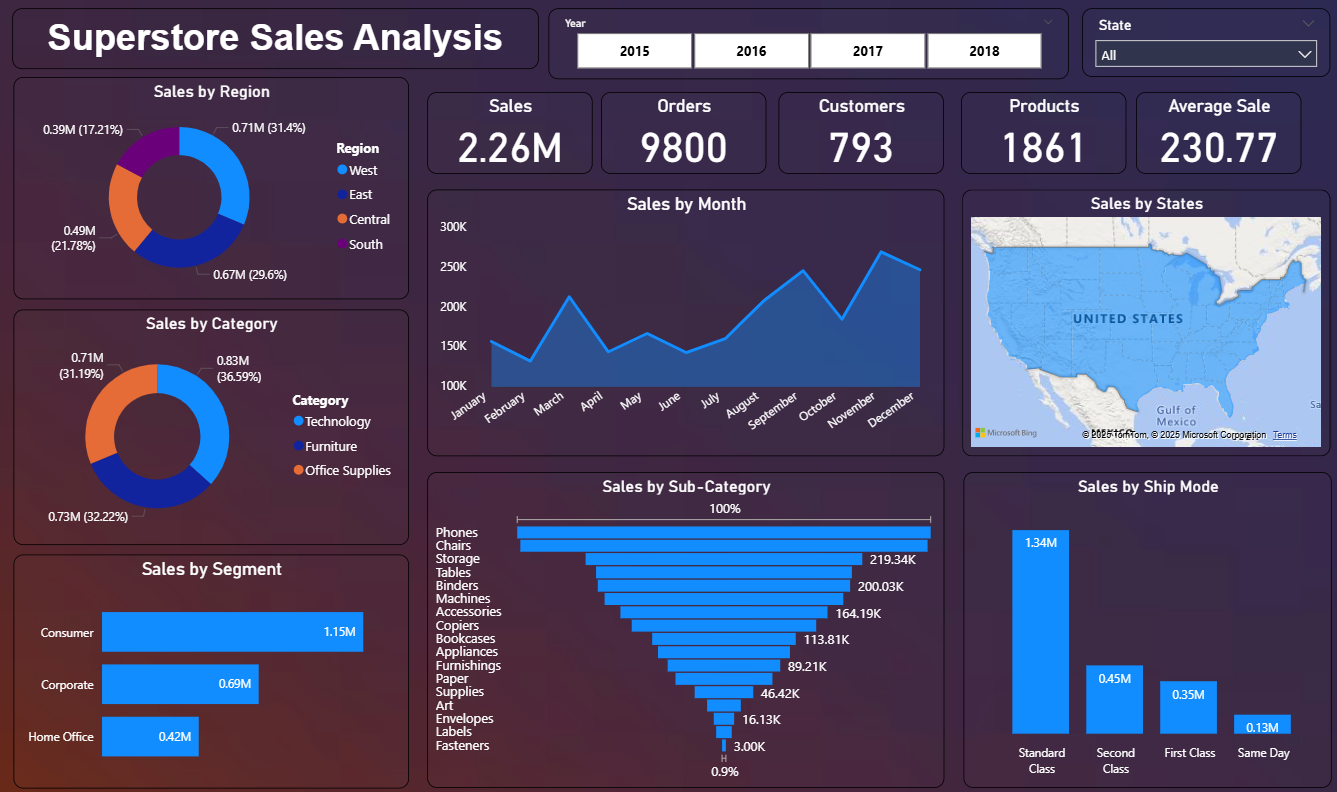

Layout of this report page (visuals, bound fields, positions):
{"tool":"powerbi","page":{"name":"Page 1","canvas":[1380,820],"ordinal":0},"visuals":[{"type":"card","title":"Sales","fields":{"Values":["Sum(train.Sales)"]},"box":[441.7,97.2,169.4,84],"z":0},{"type":"funnel","title":"Sales by Sub-Category","fields":{"Y":["Sum(train.Sales)"],"Category":["train.Sub-Category"]},"box":[441.7,487.5,530.6,323.6],"z":1000},{"type":"areaChart","title":"Sales by Month","fields":{"Category":["train.Order Date.Variation.Date Hierarchy.Month"],"Y":["Sum(train.Sales)"]},"box":[441.7,197.2,530.6,273.6],"z":2000},{"type":"textbox","box":[16.2,11.2,540,62.5],"z":3000},{"type":"columnChart","title":"Sales by Ship Mode","fields":{"Category":["train.Ship Mode"],"Y":["Sum(train.Sales)"]},"box":[991.7,487.5,377.8,323.6],"z":4000},{"type":"slicer","fields":{"Values":["train.State"]},"box":[1114.7,12,254.7,70.7],"z":5000},{"type":"slicer","fields":{"Values":["train.Order Date.Variation.Date Hierarchy.Year"]},"box":[566.2,11.2,533.8,72.5],"z":6000},{"type":"donutChart","title":" Sales by Category","fields":{"Category":["train.Category"],"Y":["Sum(train.Sales)"]},"box":[17.3,320,405.3,241.3],"z":7000},{"type":"barChart","title":"Sales by Segment","fields":{"Y":["Sum(train.Sales)"],"Category":["train.Segment"]},"box":[17.3,572,405.3,240],"z":8000},{"type":"donutChart","title":"Sales by Region","fields":{"Y":["Sum(train.Sales)"],"Category":["train.Region"]},"box":[17.3,82.7,405.3,228],"z":9000},{"type":"card","title":"Orders","fields":{"Values":["CountNonNull(train.Order ID)"]},"box":[621,97,169.3,84],"z":10000},{"type":"card","title":"Customers","fields":{"Values":["Count(train.Customer ID)"]},"box":[802.7,97.3,169.3,84],"z":11000},{"type":"card","title":"Products","fields":{"Values":["Count(train.Product ID)"]},"box":[989.3,97,169.3,84],"z":12000},{"type":"card","title":"Average Sale","fields":{"Values":["Avg(train.Sales)"]},"box":[1169.3,97,169.3,84],"z":13000},{"type":"filledMap","title":"Sales by Ship Mode","fields":{"Category":["train.State"]},"box":[991.6,196.8,377.3,273.3],"z":14000}]}

Visuals, with their boxes in screenshot pixels (x1, y1, x2, y2), scaled from the page's 1380x820 canvas onto the 1337x792 screenshot:
"Sales" card: [428,94,592,175]
"Sales by Sub-Category" funnel: [428,471,942,783]
"Sales by Month" areaChart: [428,190,942,455]
textbox: [16,11,539,71]
"Sales by Ship Mode" columnChart: [961,471,1327,783]
slicer - train.State: [1080,12,1327,80]
slicer - train.Order Date.Variation.Date Hierarchy.Year: [549,11,1066,81]
" Sales by Category" donutChart: [17,309,409,542]
"Sales by Segment" barChart: [17,552,409,784]
"Sales by Region" donutChart: [17,80,409,300]
"Orders" card: [602,94,766,175]
"Customers" card: [778,94,942,175]
"Products" card: [958,94,1122,175]
"Average Sale" card: [1133,94,1297,175]
"Sales by Ship Mode" filledMap: [961,190,1326,454]
